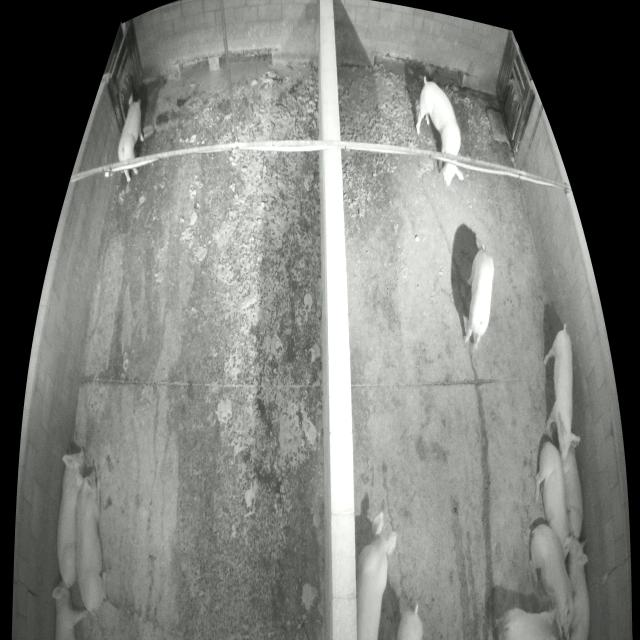pig: (356, 506, 397, 637), (542, 330, 580, 467), (529, 526, 575, 639), (416, 81, 464, 186), (75, 471, 106, 612), (56, 449, 85, 588), (535, 442, 568, 544), (462, 249, 494, 352), (563, 534, 591, 639), (118, 92, 145, 181), (52, 580, 88, 639), (562, 449, 583, 540), (496, 608, 558, 636), (397, 611, 424, 639)
